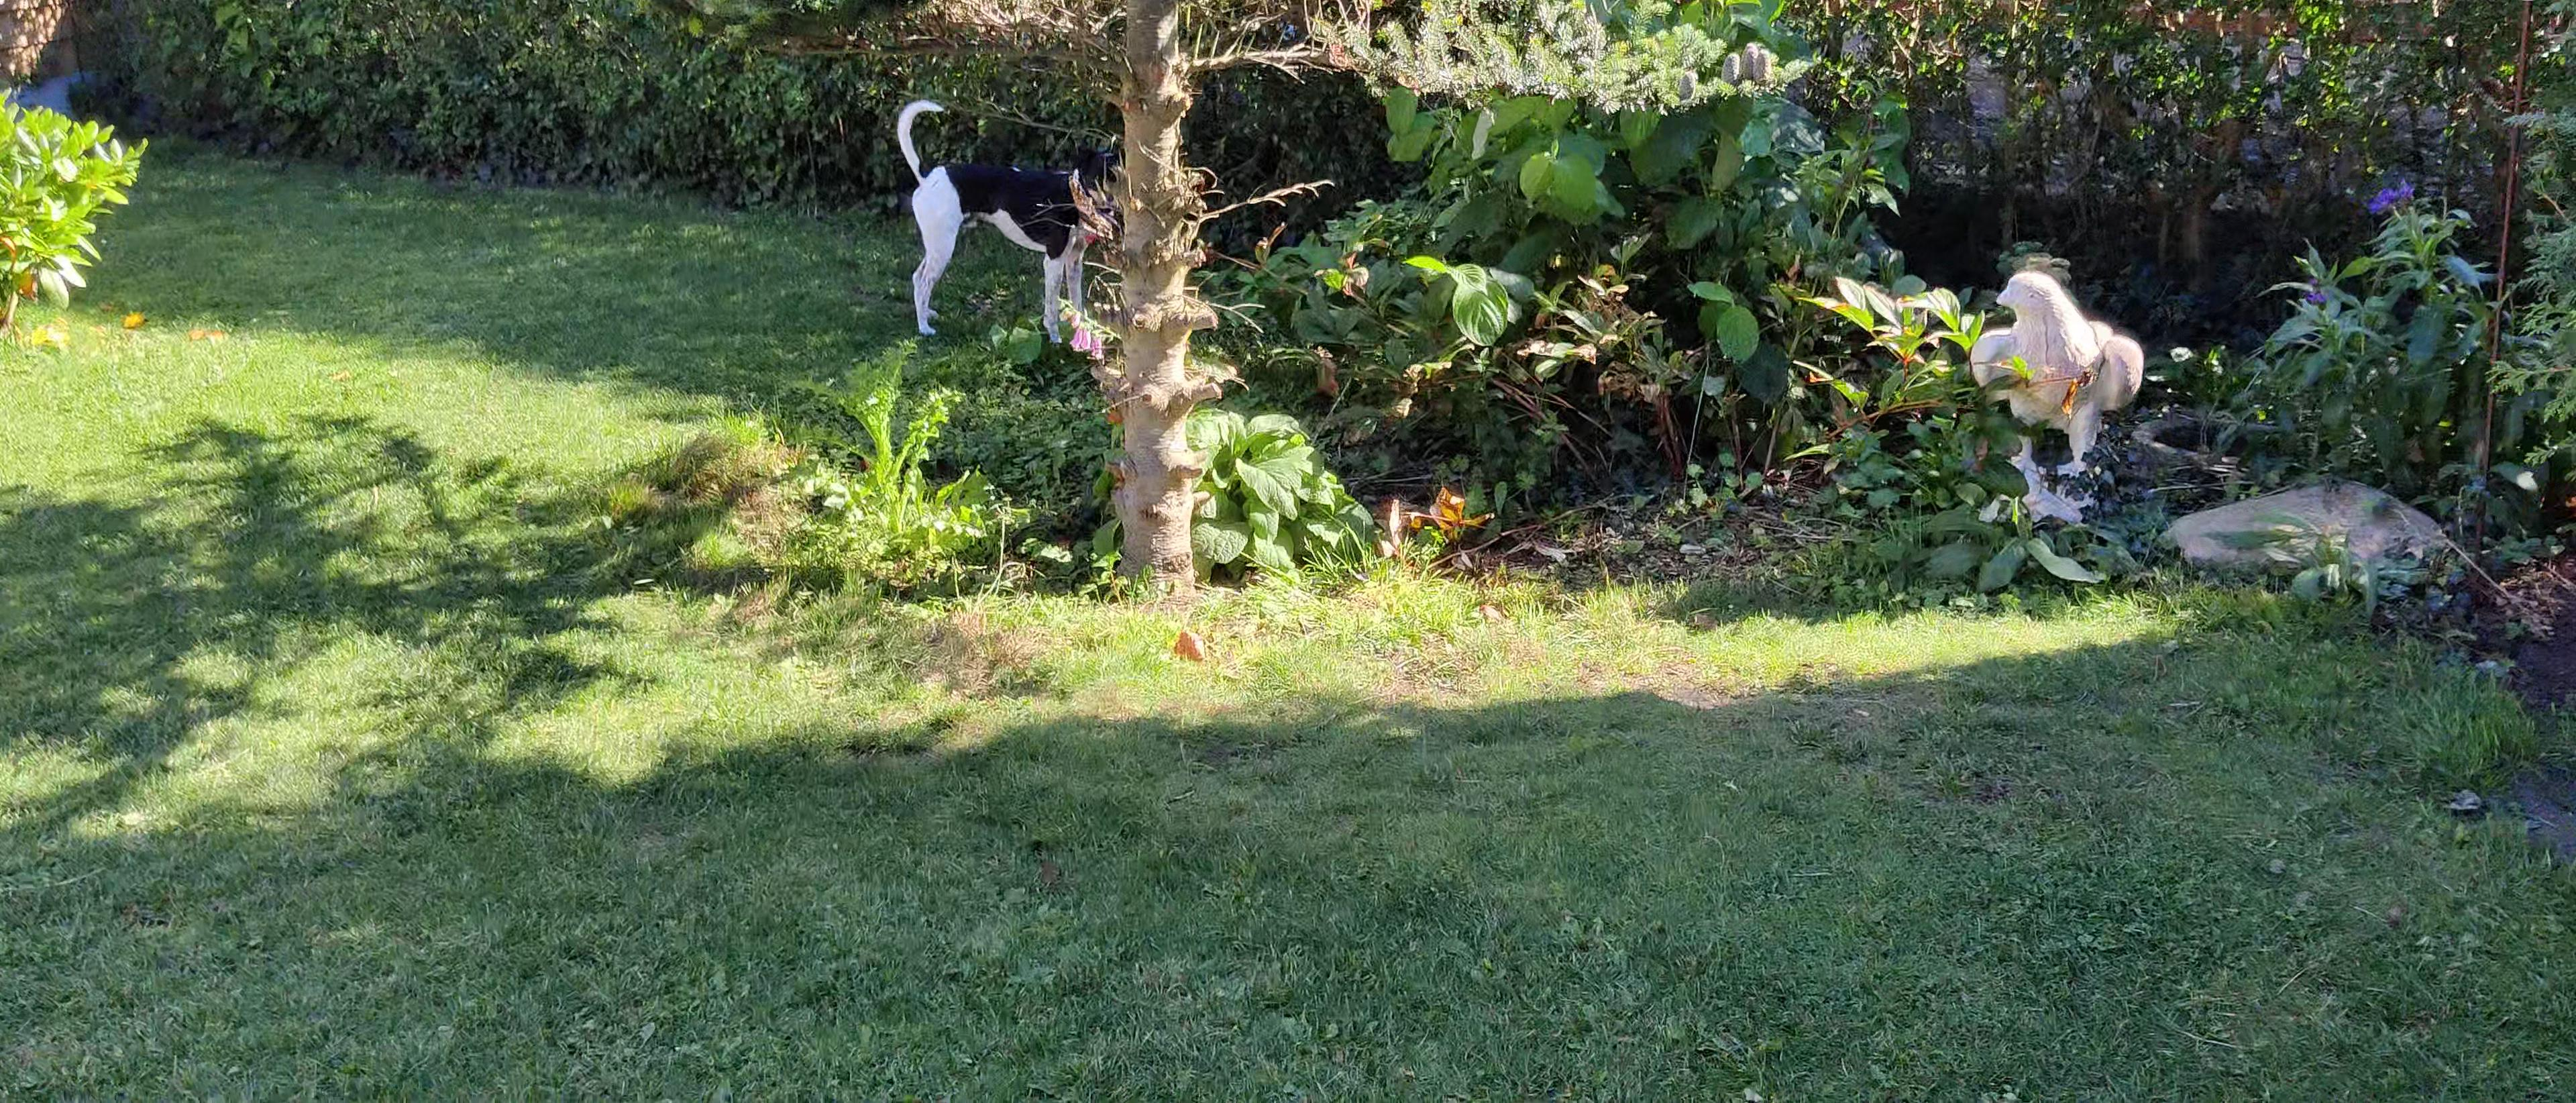Dog: (892, 92, 1135, 345)
